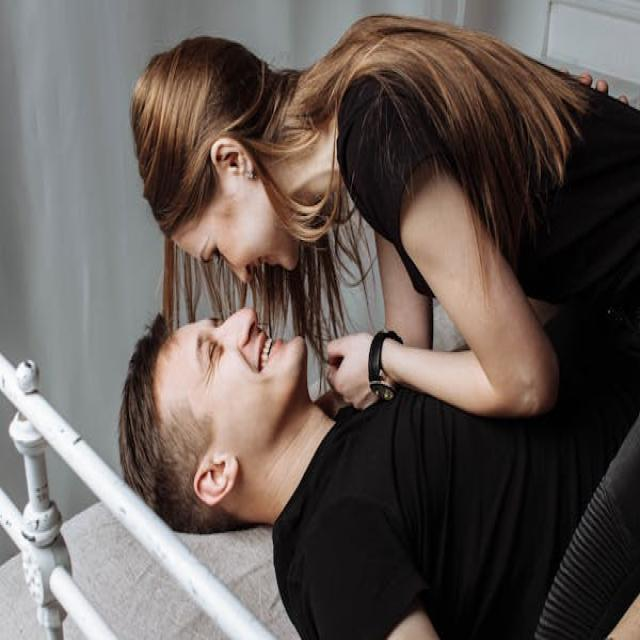Real human 2: (97, 33, 640, 640)
